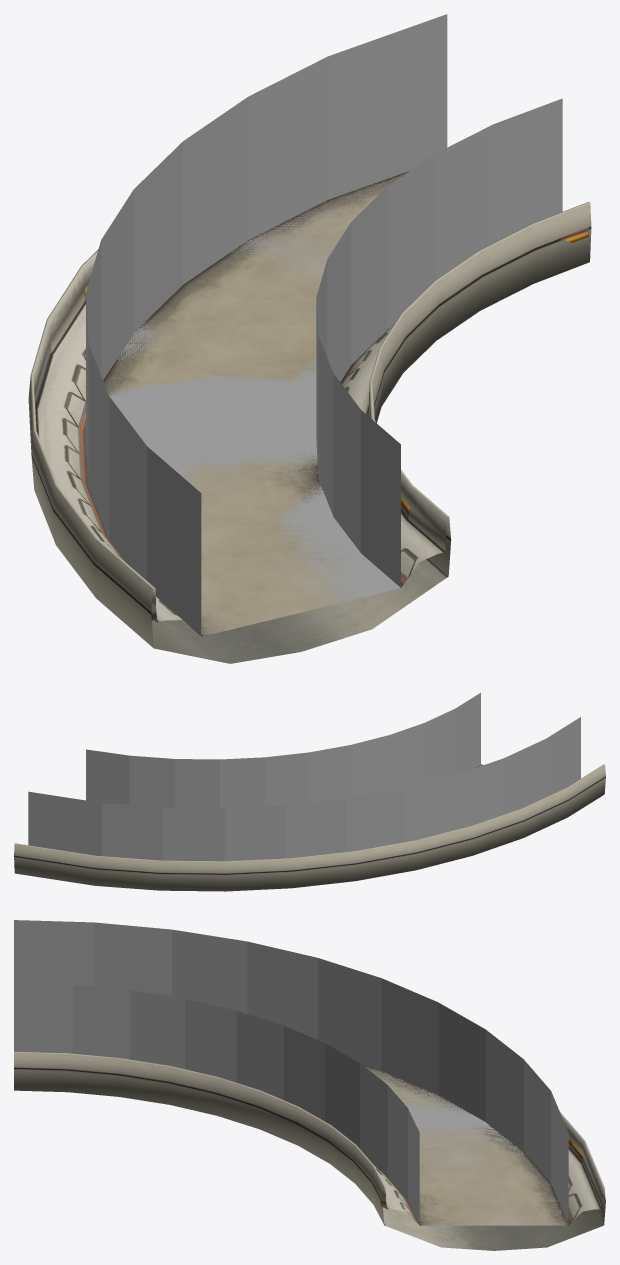
The model's file is road_turn_long.fbx.
3 views of the same model, one above another, from view 1: azimuth 30°, elevation 25°; view 2: azimuth 150°, elevation 25°; view 3: azimuth 270°, elevation 25° (orthographic). The views are drawn at different scales.
Visible parts, largest first — view 1: colider_turn_long, road__turn_long1; view 2: colider_turn_long, road__turn_long1; view 3: colider_turn_long, road__turn_long1.
Boxes of the visible parts, x1,y1,x2,y2 form: colider_turn_long: (86, 14, 562, 636); road__turn_long1: (28, 171, 591, 663); colider_turn_long: (28, 693, 580, 861); road__turn_long1: (14, 764, 605, 891); colider_turn_long: (14, 920, 568, 1225); road__turn_long1: (14, 1051, 605, 1250).
Size of the model in its own units: 58.12 by 14.01 by 63.62.
